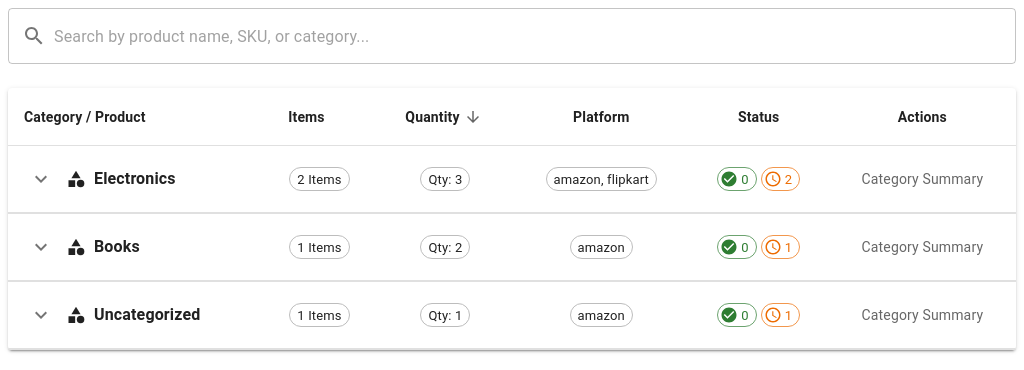
it: CategoryGroupedTable › filters data when searching by SKU
Type "SKU001" into the field with placeholder "Search by product name, SKU, or category..." at (535, 36), box [54,8,1016,64]
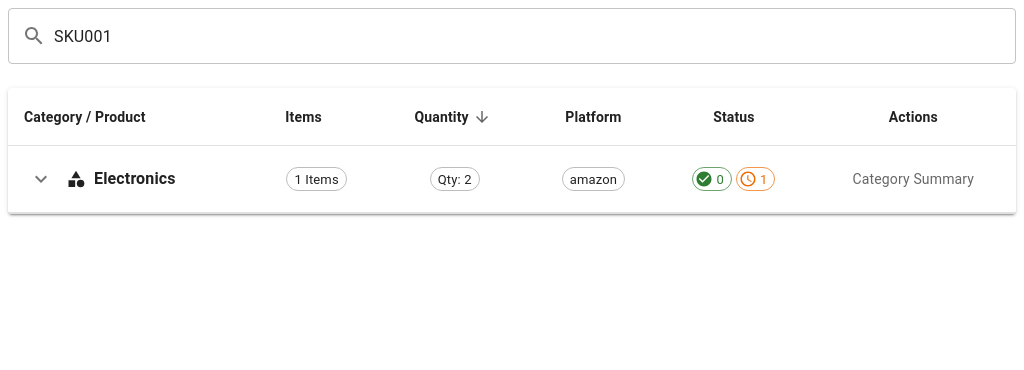
expect the heading "Electronics" is shown: met, box [94,165,176,193]
expect the button "Books" is gone: met
